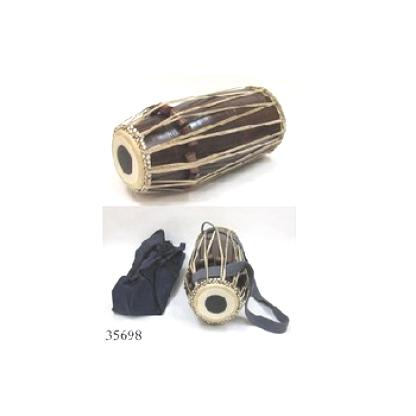Mridangam: (107, 79, 289, 202)
